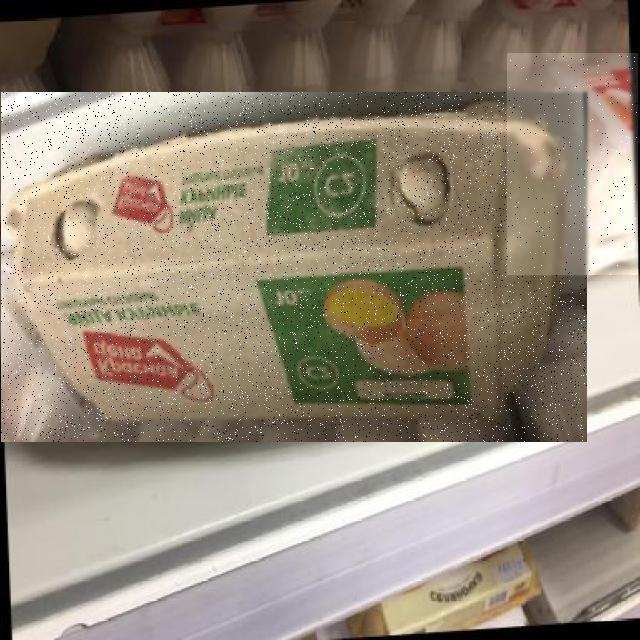Eggs: (1, 92, 587, 442), (507, 53, 638, 275)
